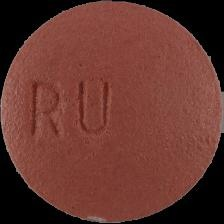16252-616: (0, 0, 224, 224)
